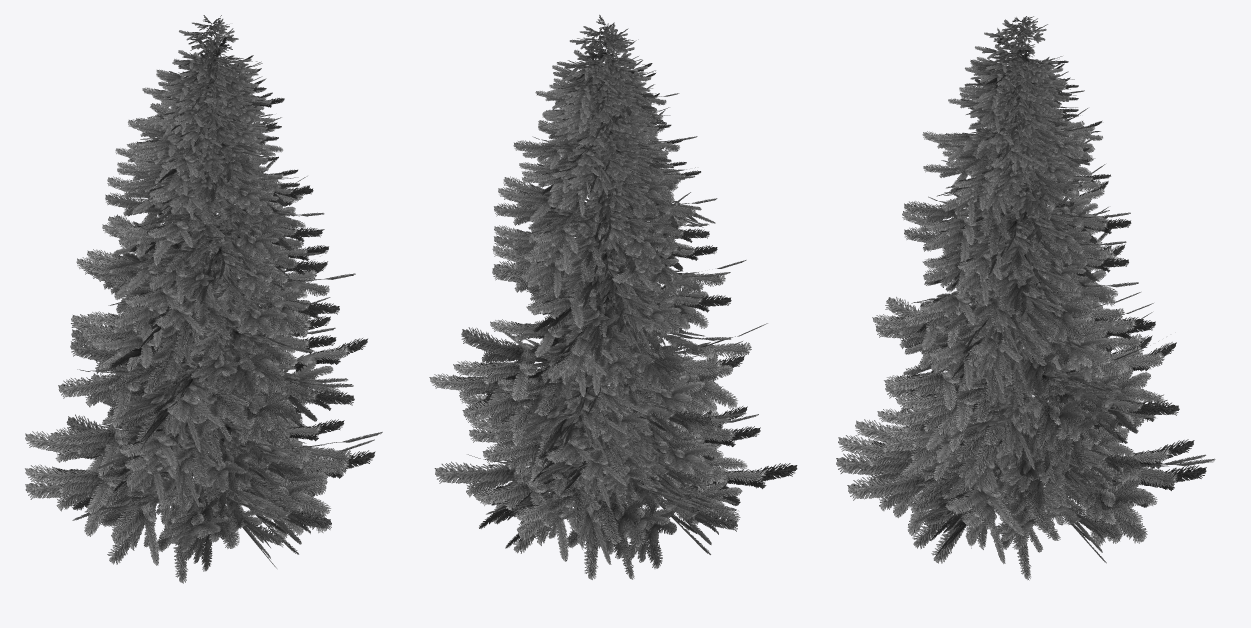
The model's file is xmas_tree.fbx.
The picture shows the model from 3 angles, left to right: view 1: azimuth 30°, elevation 25°; view 2: azimuth 150°, elevation 25°; view 3: azimuth 270°, elevation 25°; orthographic projection. The views are drawn at different scales.
Visible parts, largest first — view 1: xmas_tree; view 2: xmas_tree; view 3: xmas_tree.
Part boxes in pixels (left/top/right/bottom): xmas_tree: left=25, top=15, right=382, bottom=583; xmas_tree: left=429, top=14, right=797, bottom=579; xmas_tree: left=836, top=16, right=1215, bottom=580.
Size of the model in its own units: 161 by 230 by 161.
